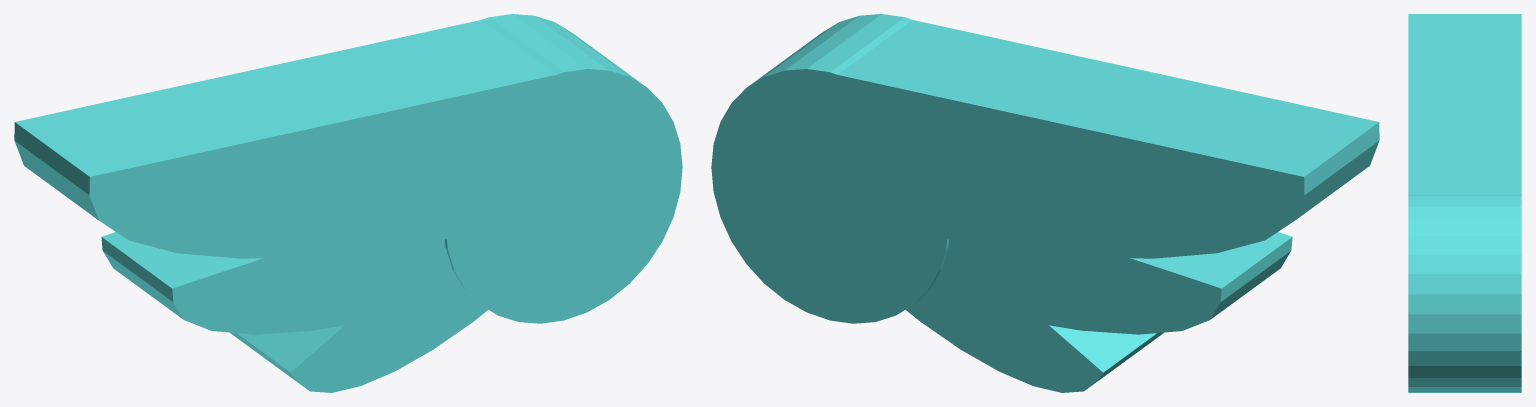
Rendered from shoe_2.fbx.
3 views of the same model, side by side, from view 1: azimuth 30°, elevation 25°; view 2: azimuth 150°, elevation 25°; view 3: azimuth 270°, elevation 25° (orthographic). The views are drawn at different scales.
Parts seen in each view (by area): view 1: Cube.027; view 2: Cube.027; view 3: Cube.027.
Boxes of the visible parts, <box> form: Cube.027: <box>14,14,682,392</box>; Cube.027: <box>711,14,1379,392</box>; Cube.027: <box>1408,14,1521,392</box>.
Bounding box in the file's own units: 203 × 90.85 × 44.59.
